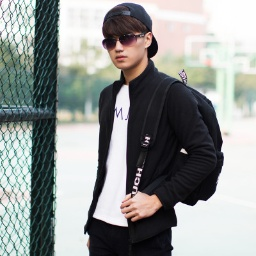face: (104, 6, 153, 70)
